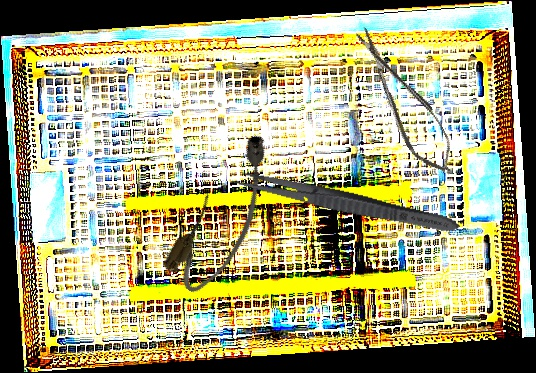Cannula: (157, 127, 295, 302)
Dressing Forceps: (228, 166, 463, 239)
Micro Scissor: (346, 17, 463, 183)
